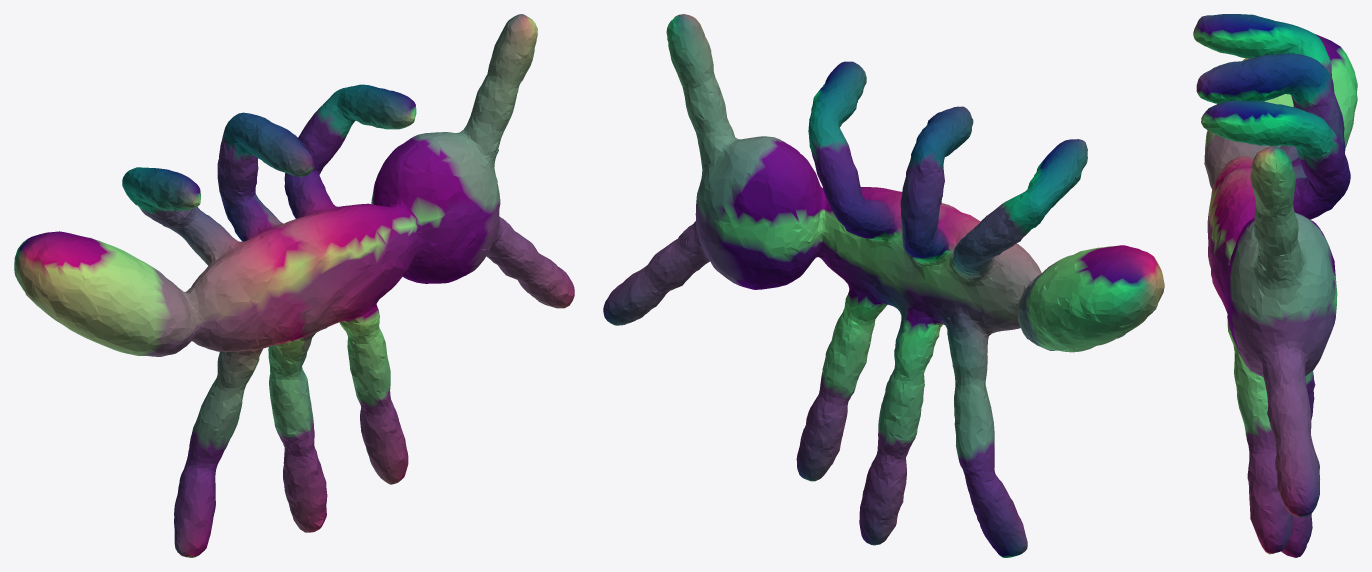
File: ant-6.off.obj
3 renders of one model, left to right at view 1: azimuth 30°, elevation 25°; view 2: azimuth 150°, elevation 25°; view 3: azimuth 270°, elevation 25°, orthographic. The views are drawn at different scales.
Size of the model in its own units: 1.64 by 1.35 by 0.3905.
